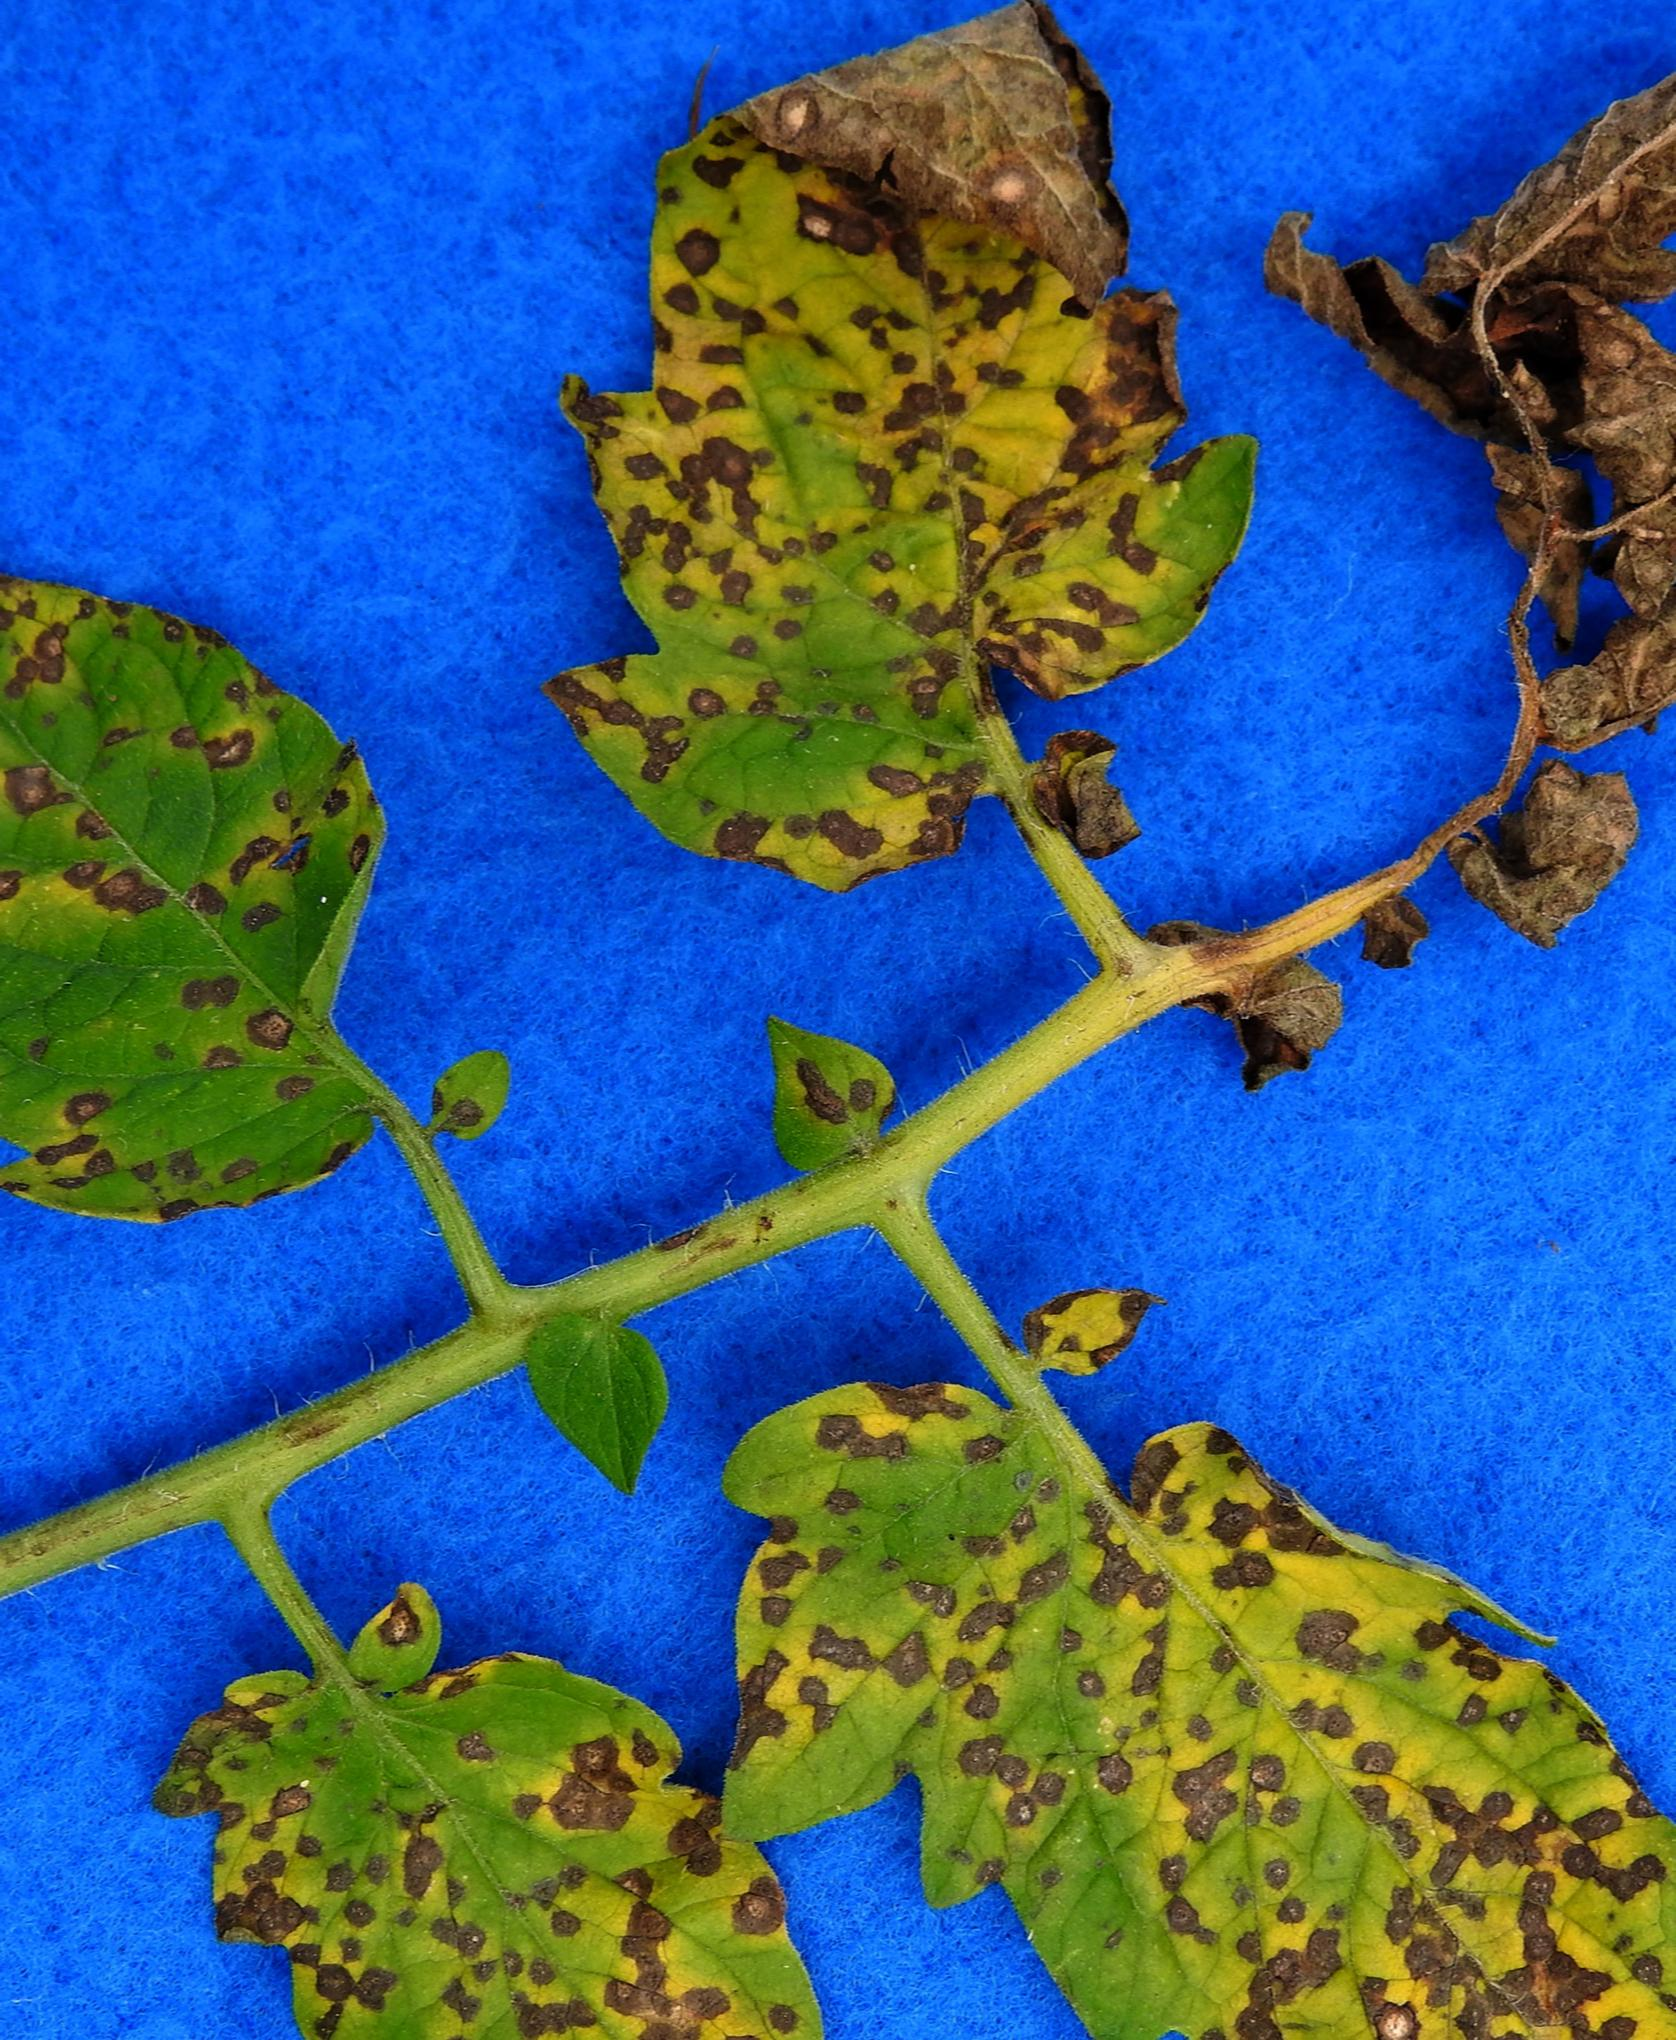Tomato Septoria leaf spot: (720, 1322, 1676, 2040), (547, 0, 1318, 884), (0, 429, 430, 1296), (161, 1583, 859, 2040)
